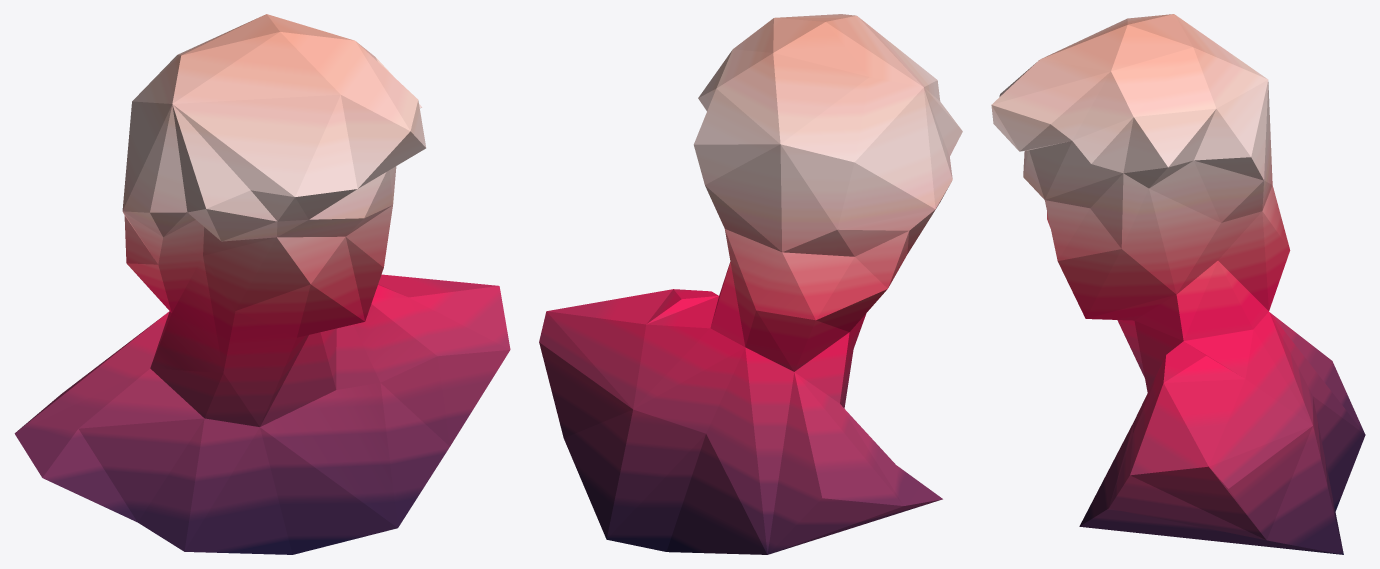
The model's file is Atef.obj.
3 views of the same model, side by side, from view 1: azimuth 30°, elevation 25°; view 2: azimuth 150°, elevation 25°; view 3: azimuth 270°, elevation 25° (orthographic). The views are drawn at different scales.
Visible parts, largest first — view 1: Deco_01.006; view 2: Deco_01.006; view 3: Deco_01.006.
Boxes of the visible parts, <box> form: Deco_01.006: <box>14,14,510,554</box>; Deco_01.006: <box>539,14,962,554</box>; Deco_01.006: <box>991,14,1365,554</box>.
Bounding box in the file's own units: 1.45 × 1.62 × 1.14.
